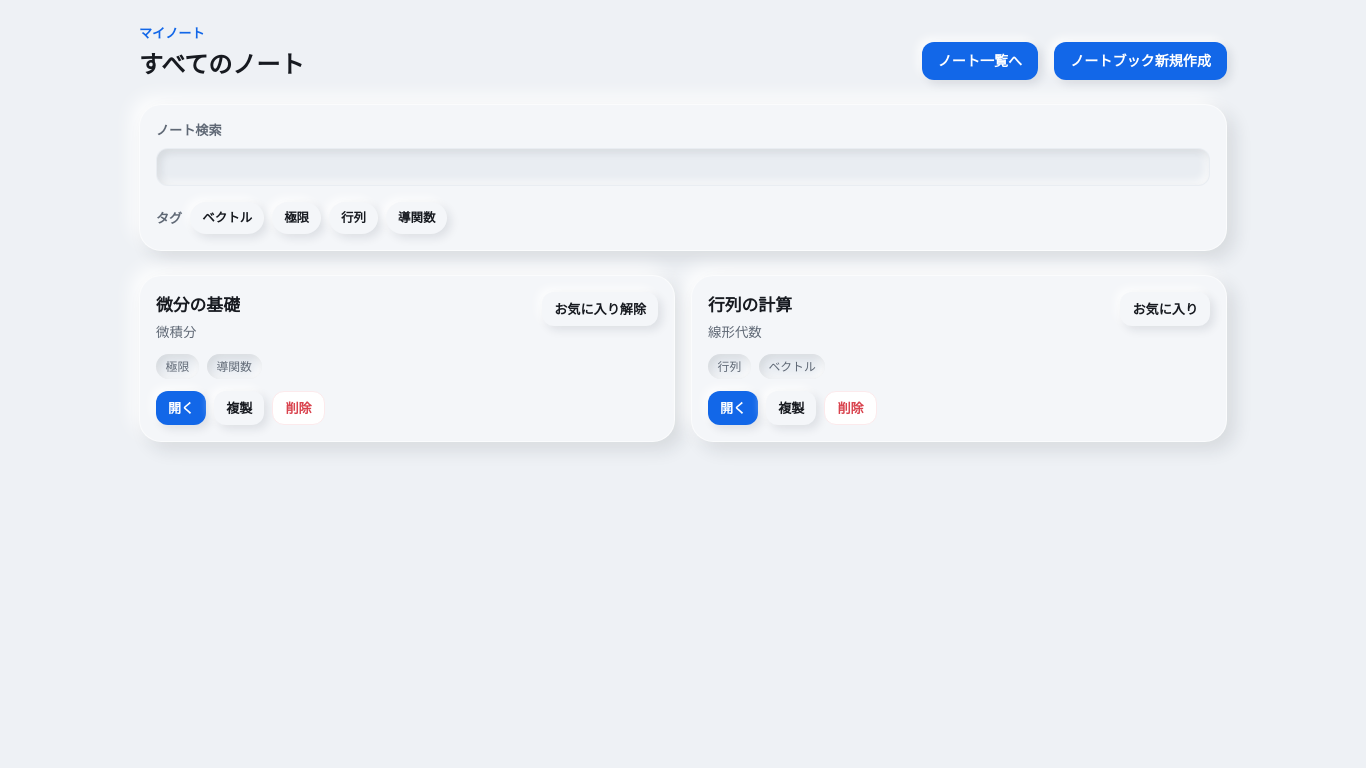
HomePage › HOMEからタイトルとタグだけで新規ノートを作成する
Click the button with class "home-notes-summary__create-button" at (1141, 61), box [1054,42,1227,80]
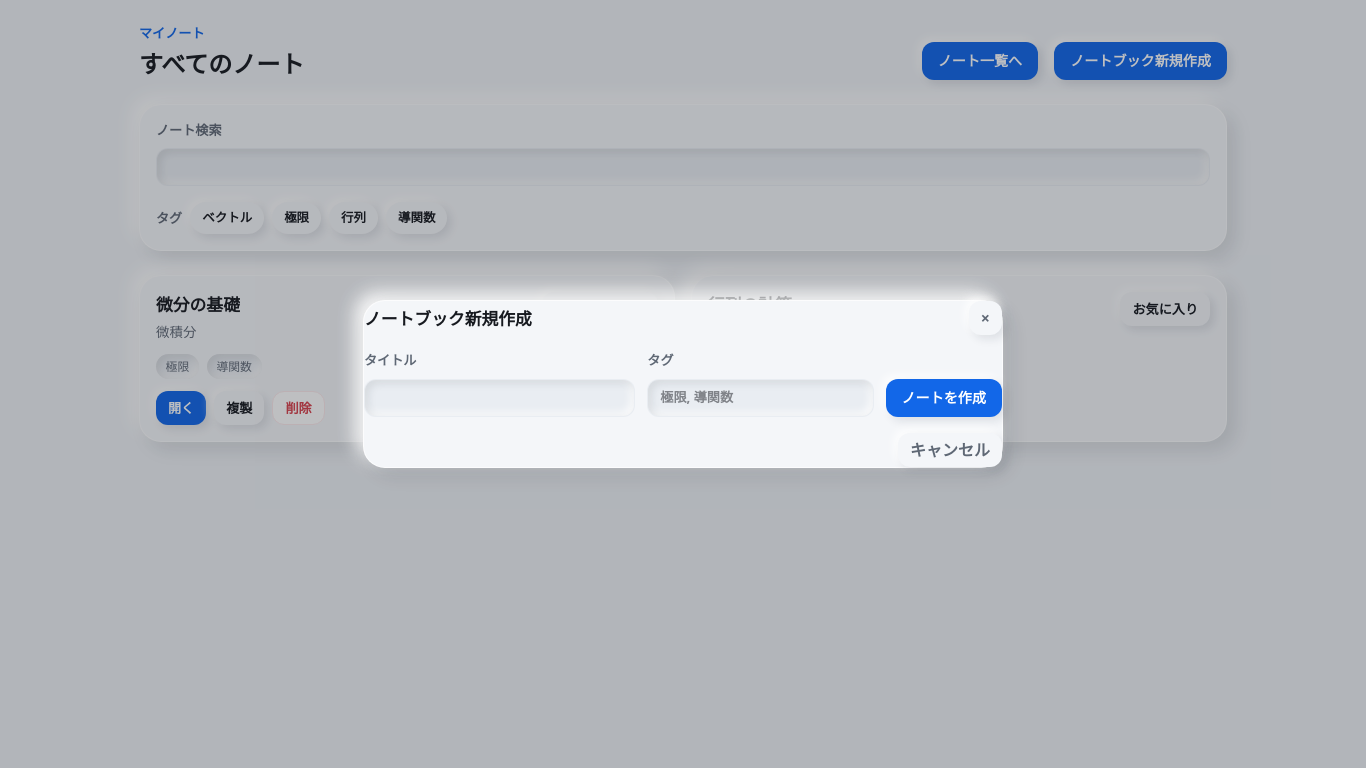
Type "複素数の復習" into the field with test id "note-title" at (500, 398), box [364,379,635,417]
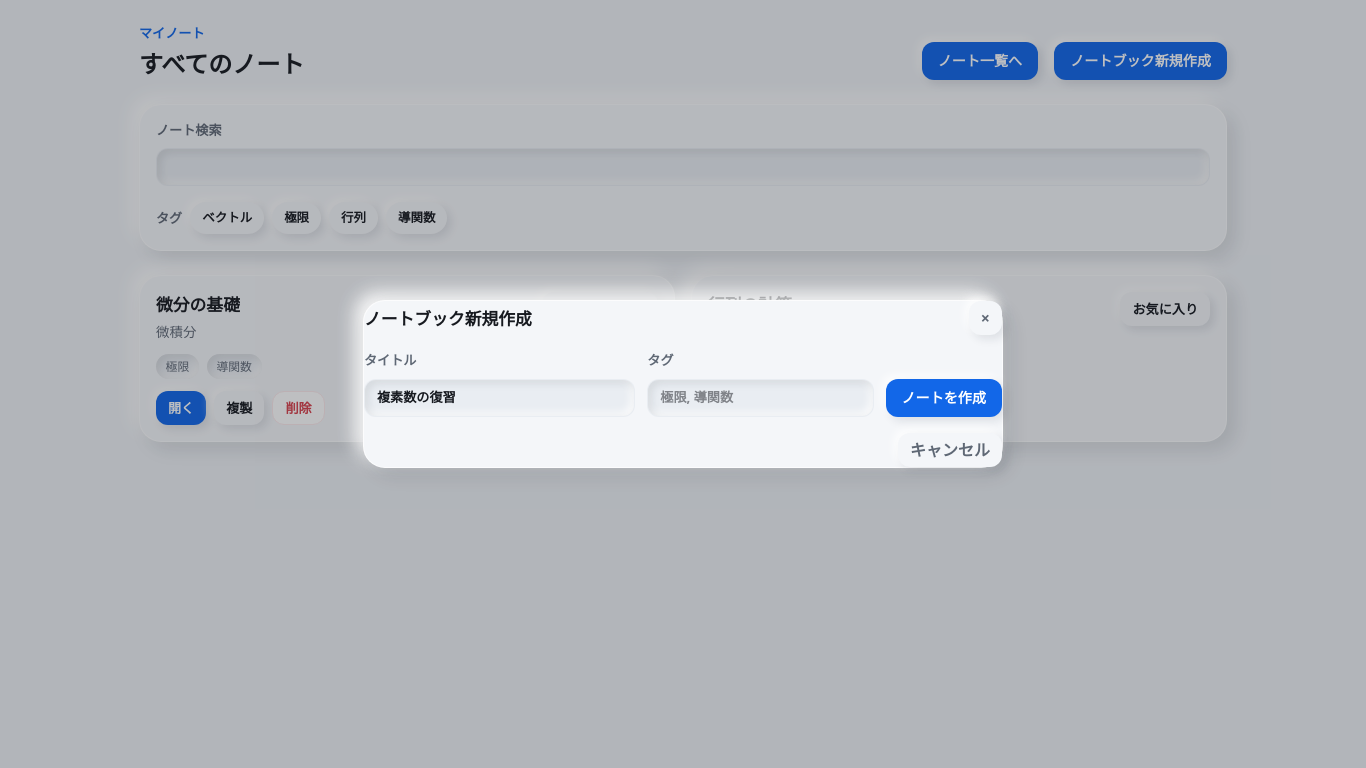
Type "複素数, 方程式" into the field with test id "note-tags" at (760, 398), box [647,379,874,417]
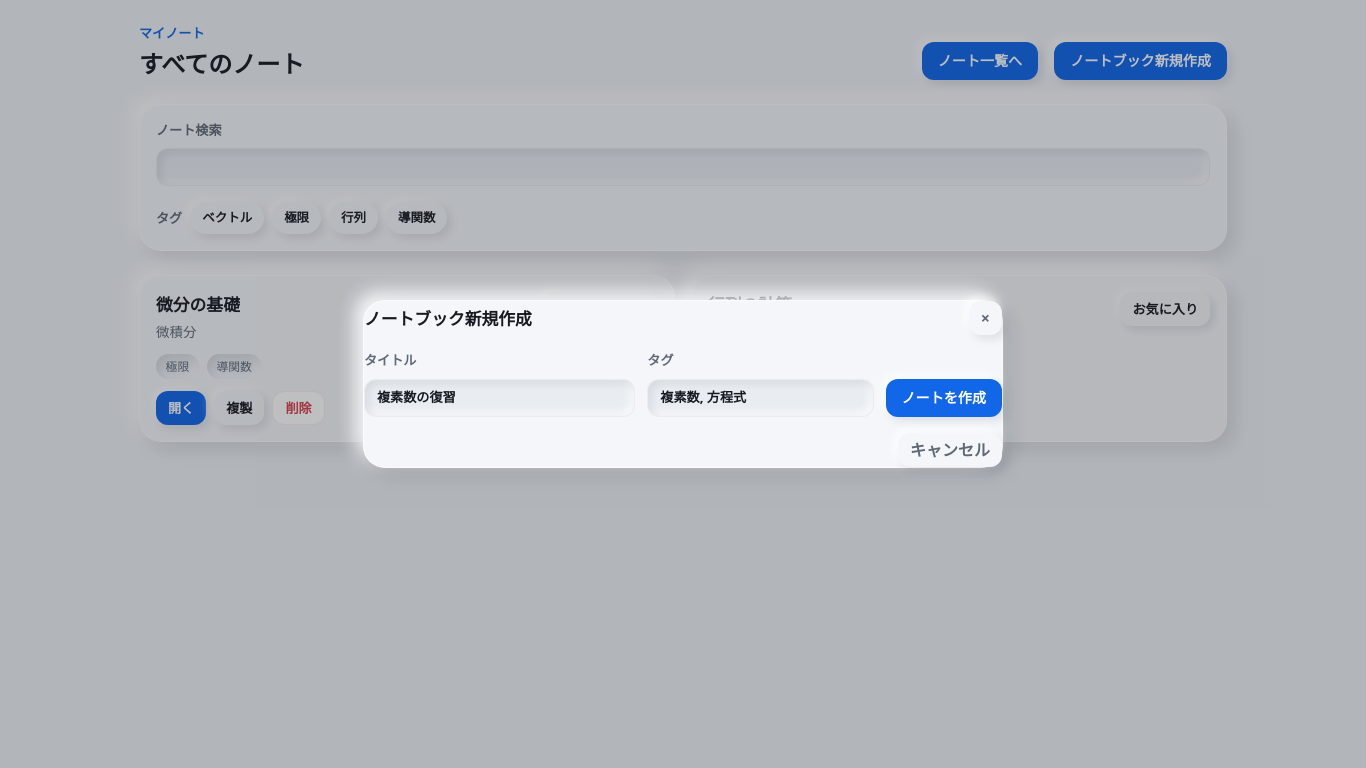
Submit the form, box [364,351,1002,417]
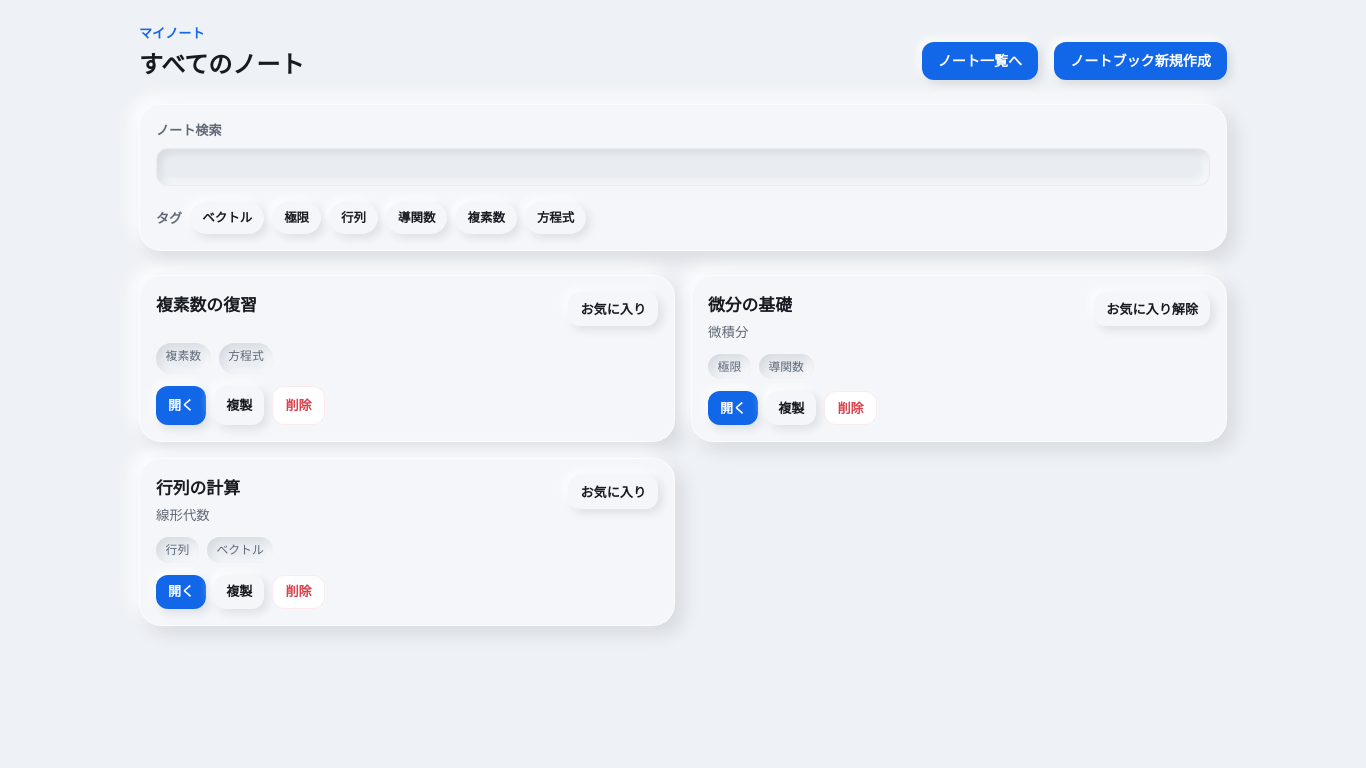
Expected: the text "複素数の復習" is shown, [156,292,257,318]
Expected: the text "複素数" is shown, [456,202,517,234]
